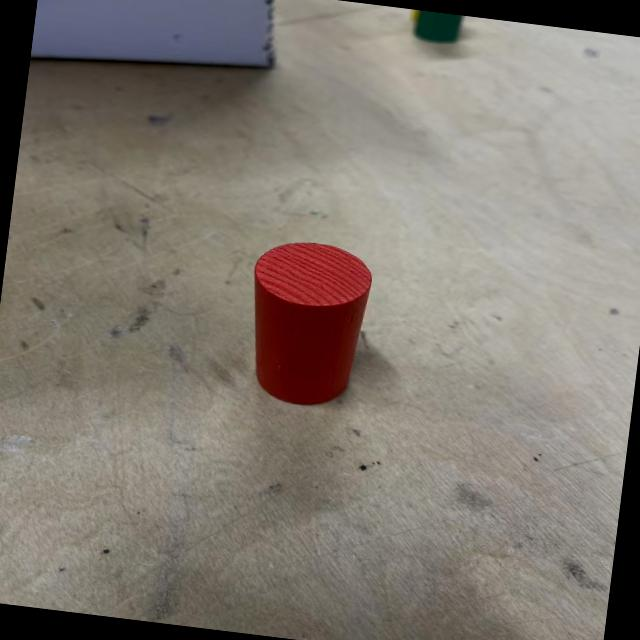red_cylinder: (238, 233, 377, 412)
